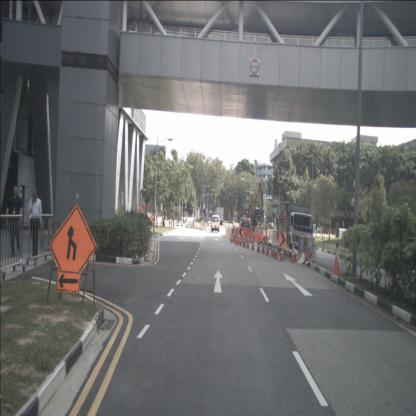human-pedestrian-adult: (5, 184, 23, 258), (27, 189, 42, 260)
movable_object-barrier: (295, 236, 310, 265), (304, 236, 318, 265), (237, 227, 253, 242), (269, 229, 277, 242), (338, 228, 346, 238), (328, 230, 336, 238), (264, 228, 270, 238), (148, 217, 154, 224), (157, 217, 162, 223)
movable_object-trafficcone: (332, 245, 341, 276), (291, 243, 296, 264), (280, 241, 284, 261), (274, 242, 278, 260), (266, 238, 270, 254), (262, 238, 266, 254), (271, 240, 274, 258), (246, 236, 250, 248), (257, 238, 260, 252), (251, 236, 254, 250), (234, 235, 238, 244), (232, 233, 235, 244), (243, 236, 246, 247), (240, 236, 243, 246), (237, 235, 240, 244), (230, 233, 233, 241)
vehicle-car: (214, 207, 224, 226), (211, 214, 220, 233)
